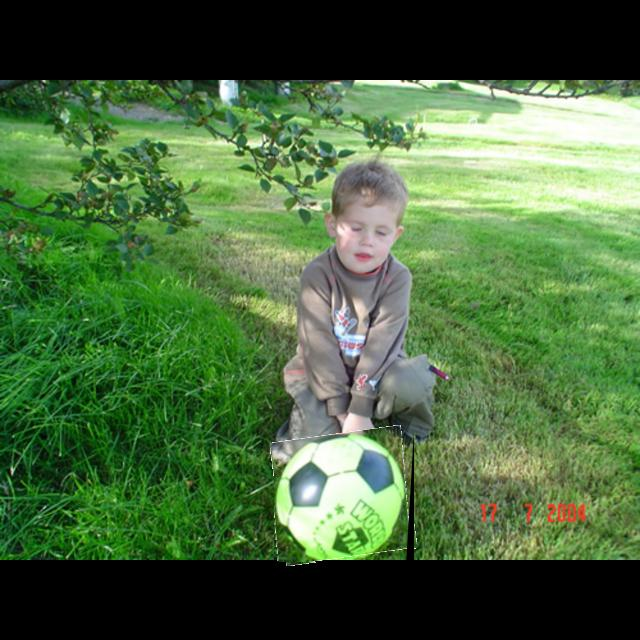Football: (274, 430, 414, 562)
